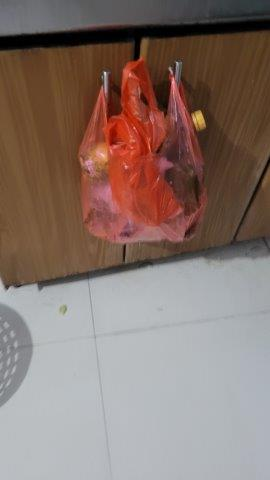plastik: (77, 58, 208, 244)
